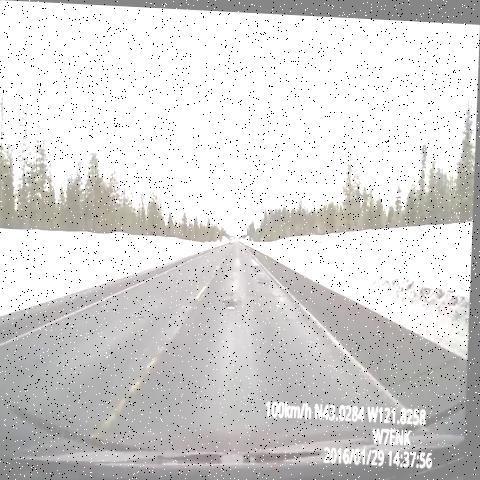pothole: (214, 285, 246, 324), (255, 267, 273, 292), (248, 258, 269, 275), (245, 243, 253, 258)
